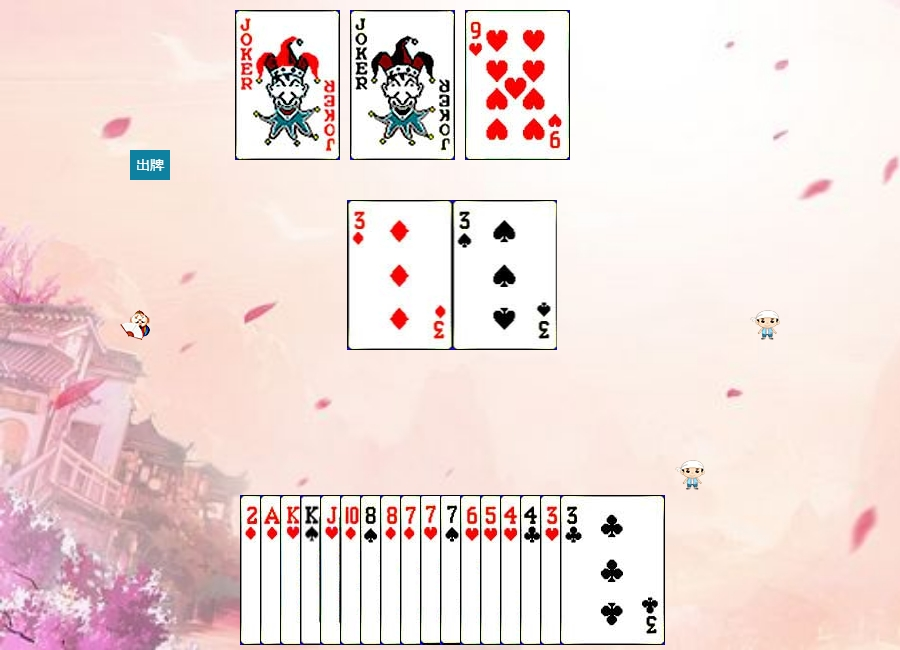10~1: (340, 495, 445, 645)
11~3: (320, 495, 425, 645)
13~3: (280, 495, 385, 645)
13~4: (300, 495, 405, 645)
14~1: (260, 495, 365, 645)
15~1: (240, 495, 345, 645)
17~3: (350, 10, 455, 160)
18~4: (235, 10, 340, 160)
3~1: (348, 200, 453, 350)
3~2: (560, 495, 665, 645)
3~3: (540, 495, 645, 645)
3~4: (453, 200, 558, 350)
4~2: (520, 495, 625, 645)
4~3: (500, 495, 605, 645)
5~3: (480, 495, 585, 645)
6~3: (460, 495, 565, 645)
7~1: (400, 495, 505, 645)
7~3: (420, 495, 525, 645)
7~4: (440, 495, 545, 645)
8~1: (380, 495, 485, 645)
8~4: (360, 495, 465, 645)
9~3: (465, 10, 570, 160)
